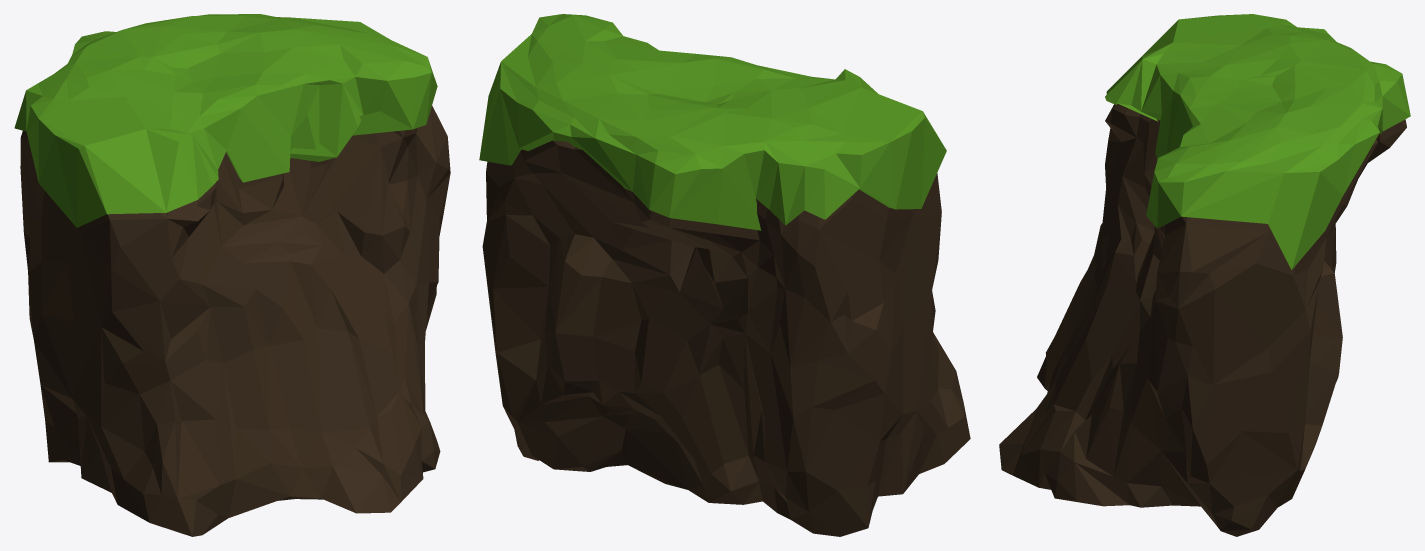
File: M_cliff_grass_03.FBX
3 renders of one model, left to right at view 1: azimuth 30°, elevation 25°; view 2: azimuth 150°, elevation 25°; view 3: azimuth 270°, elevation 25°, orthographic. The views are drawn at different scales.
Visible parts, largest first — view 1: Object040; view 2: Object040; view 3: Object040.
Boxes of the visible parts, x1,y1,x2,y2 form: Object040: (14,14,450,536); Object040: (479,14,970,536); Object040: (999,14,1410,536).
Size of the model in its own units: 1261 by 1246 by 1217.
